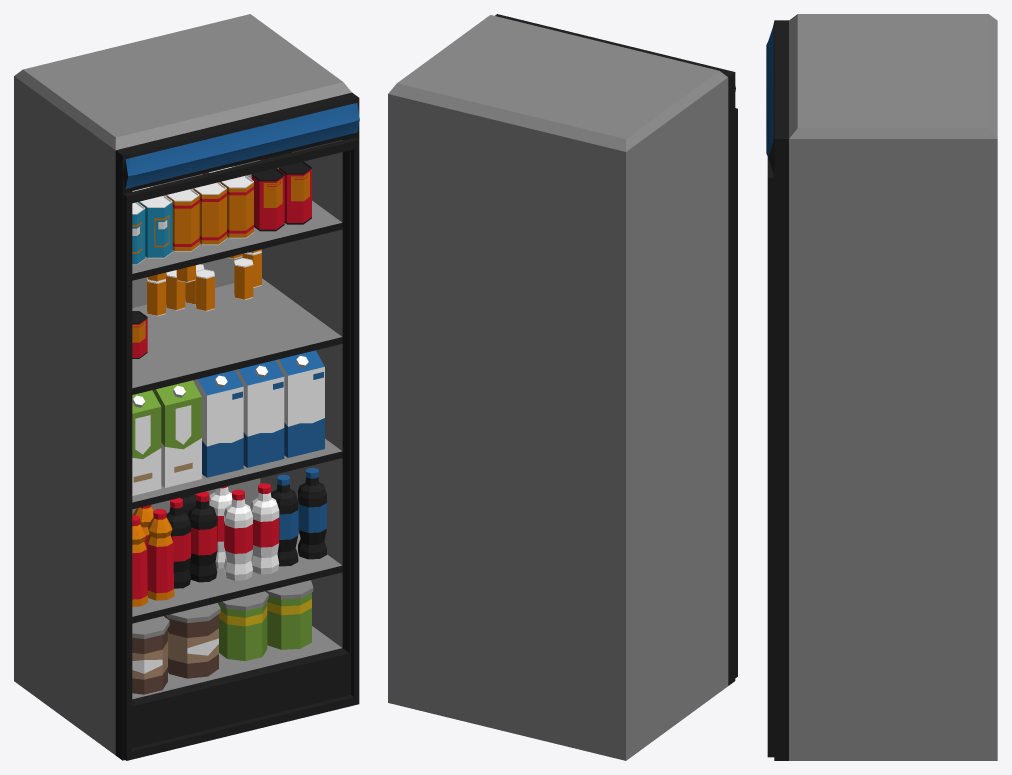
File: SMless_fridge_01.fbx
3 renders of one model, left to right at view 1: azimuth 30°, elevation 25°; view 2: azimuth 150°, elevation 25°; view 3: azimuth 270°, elevation 25°, orthographic. The views are drawn at different scales.
Parts seen in each view (by area): view 1: SMless_fridge_01; view 2: SMless_fridge_01; view 3: SMless_fridge_01.
Part boxes in pixels (x1,y1,x2,y2): SMless_fridge_01: [14, 14, 359, 760]; SMless_fridge_01: [388, 14, 737, 760]; SMless_fridge_01: [766, 14, 997, 760].
Size of the model in its own units: 100 by 248 by 82.29.
